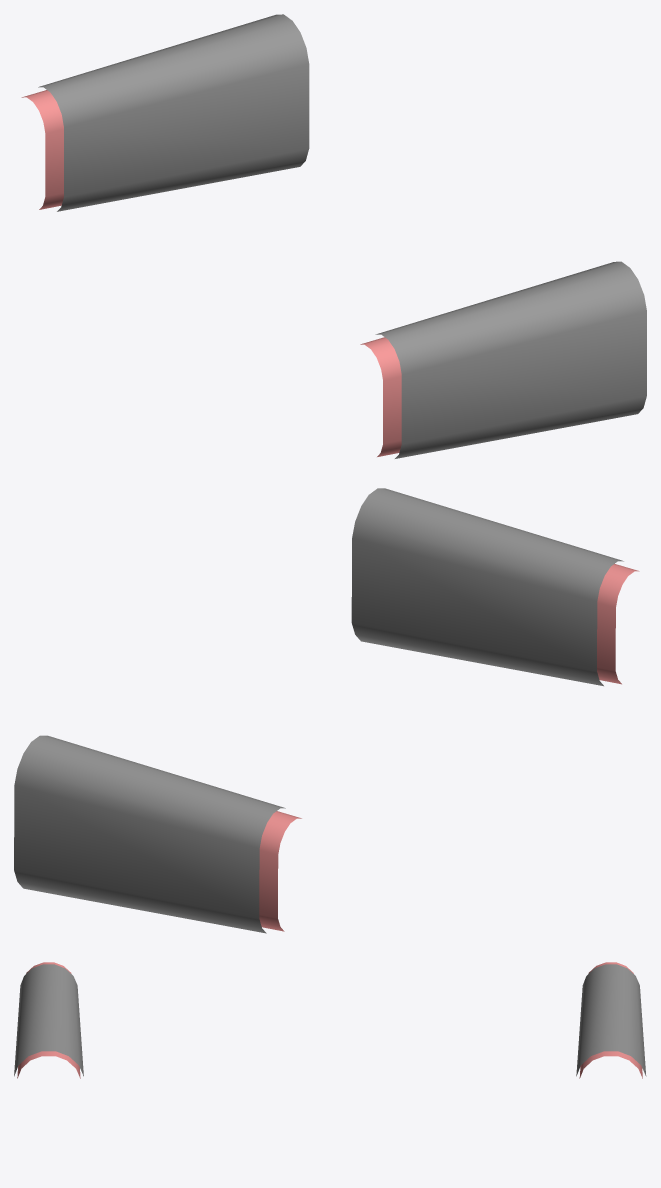
File: OctaneAmbientBoost_SM.gltf
3 renders of one model, top to bottom at view 1: azimuth 30°, elevation 25°; view 2: azimuth 150°, elevation 25°; view 3: azimuth 270°, elevation 25°, orthographic. The views are drawn at different scales.
Parts seen in each view (by area): view 1: OctaneAmbientBoost_SM; view 2: OctaneAmbientBoost_SM; view 3: OctaneAmbientBoost_SM.
Boxes of the visible parts, bbox=[...] form: OctaneAmbientBoost_SM: bbox=[21, 14, 646, 458]; OctaneAmbientBoost_SM: bbox=[14, 488, 639, 933]; OctaneAmbientBoost_SM: bbox=[14, 962, 646, 1078].
Size of the model in its own units: 0.1296 by 0.0703 by 0.3302.
